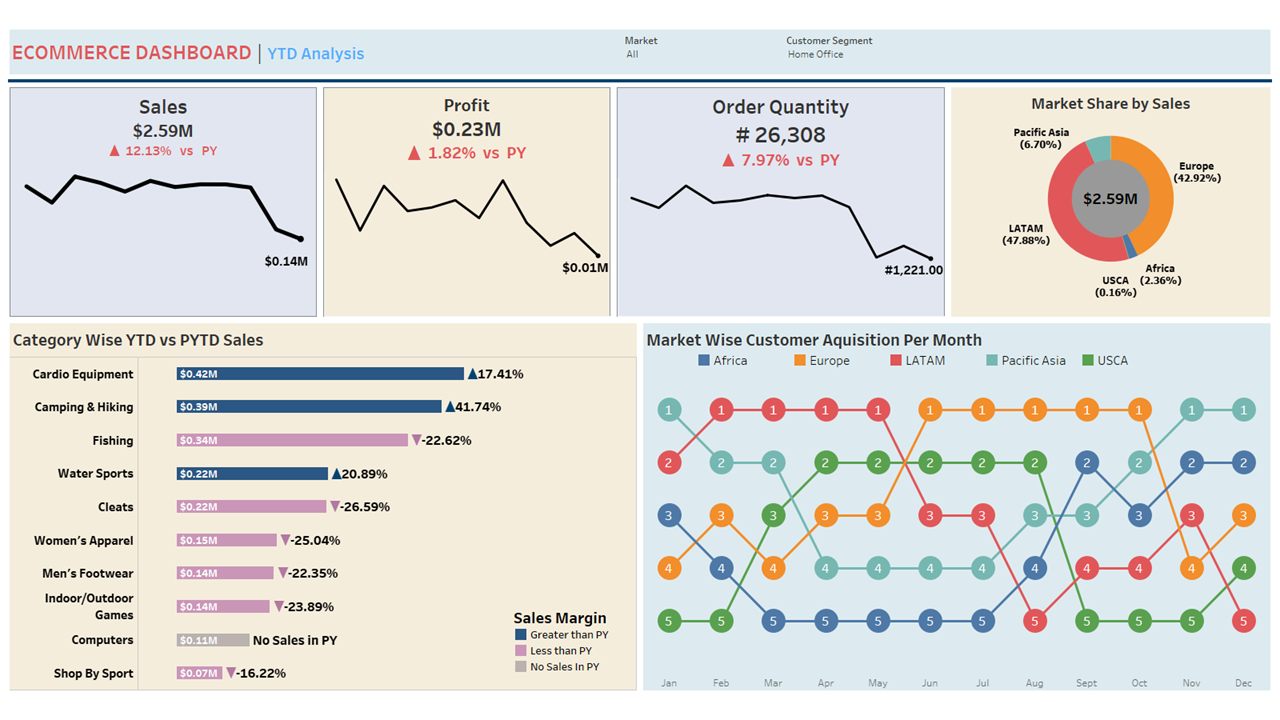

The dashboard page shown, as its layout file describes it:
{"tool":"tableau","page":{"name":"Dashboard 1","canvas":[1600,850],"ordinal":0},"visuals":[{"type":"title","box":[8,8,1584,64]},{"type":"filter","title":"Sales KPI","param":"[federated.1y69li80j8pdeq1h0cyu21xn3g1x].[none:Market:nk]","box":[781,16,170,48]},{"type":"filter","title":"Sales KPI","param":"[federated.1y69li80j8pdeq1h0cyu21xn3g1x].[none:Customer Segment:nk]","box":[983,16,139,44]},{"type":"blank","box":[8,72,1584,8]},{"type":"worksheet","title":"Sales KPI","mark":"Automatic","rows":["Sales"],"cols":["Order Date"],"box":[8,80,392,295]},{"type":"worksheet","title":"Profit KPI","mark":"Automatic","rows":["Profit Per Order"],"cols":["Order Date"],"box":[400,80,367,295]},{"type":"worksheet","title":"Order Quantity","mark":"Automatic","rows":["Order Quantity"],"cols":["Order Date"],"box":[767,80,418,295]},{"type":"worksheet","title":"Market Share by Sales","mark":"Pie","rows":["Calculation_617274627632197642","Calculation_617274627632197642"],"box":[1185,80,407,295]},{"type":"worksheet","title":"Category Wise YTD vs PYTD Sales","mark":"Bar","rows":["Category Name"],"cols":["YTD Sales  LOD (copy)_923519402198630412","YTD Sales  LOD (copy)_923519402198630412"],"box":[8,375,792,467]},{"type":"worksheet","title":"Market Wise Customer Aquisition Per Month","mark":"Automatic","cols":["Order Date"],"box":[800,375,792,467]},{"type":"legend","title":"Market Wise Customer Aquisition Per Month","param":"[federated.1y69li80j8pdeq1h0cyu21xn3g1x].[none:Market:nk]","box":[870,415,621,37]},{"type":"legend","title":"Category Wise YTD vs PYTD Sales","param":"[federated.1y69li80j8pdeq1h0cyu21xn3g1x].[usr:Calculation_923519402205093902:nk]","box":[641,731,140,87]}]}

Visuals, with their boxes on the page's 1600x850 design canvas (x1, y1, x2, y2). These are canvas units, not pixel positions in the 1280x720 screenshot, which may show the page scaled, cropped or inside an application window:
title: {"left": 8, "top": 8, "right": 1592, "bottom": 72}
"Sales KPI" filter: {"left": 781, "top": 16, "right": 951, "bottom": 64}
"Sales KPI" filter: {"left": 983, "top": 16, "right": 1122, "bottom": 60}
blank: {"left": 8, "top": 72, "right": 1592, "bottom": 80}
"Sales KPI" worksheet: {"left": 8, "top": 80, "right": 400, "bottom": 375}
"Profit KPI" worksheet: {"left": 400, "top": 80, "right": 767, "bottom": 375}
"Order Quantity" worksheet: {"left": 767, "top": 80, "right": 1185, "bottom": 375}
"Market Share by Sales" worksheet (Pie marks): {"left": 1185, "top": 80, "right": 1592, "bottom": 375}
"Category Wise YTD vs PYTD Sales" worksheet (Bar marks): {"left": 8, "top": 375, "right": 800, "bottom": 842}
"Market Wise Customer Aquisition Per Month" worksheet: {"left": 800, "top": 375, "right": 1592, "bottom": 842}
"Market Wise Customer Aquisition Per Month" legend: {"left": 870, "top": 415, "right": 1491, "bottom": 452}
"Category Wise YTD vs PYTD Sales" legend: {"left": 641, "top": 731, "right": 781, "bottom": 818}
